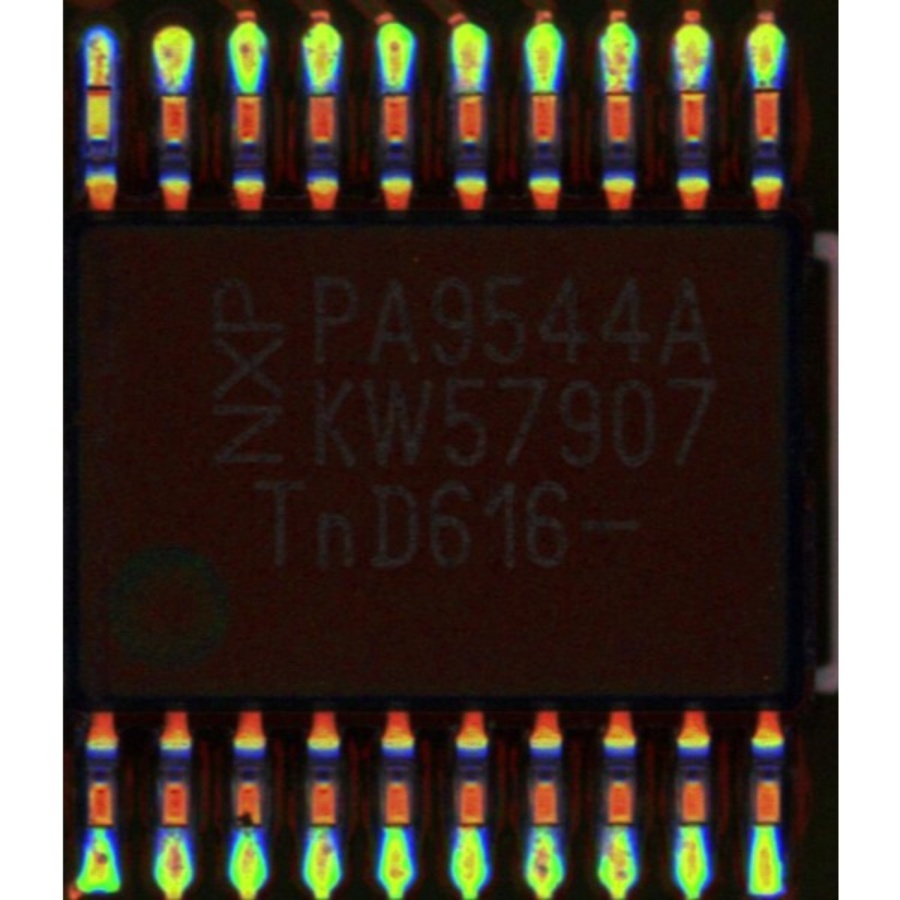Bad_podu: (89, 65, 110, 104), (611, 75, 629, 108)
